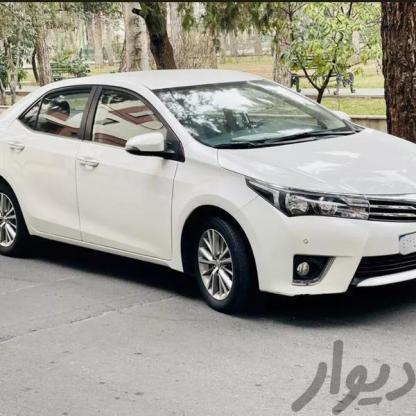Car: (0, 61, 416, 321)
